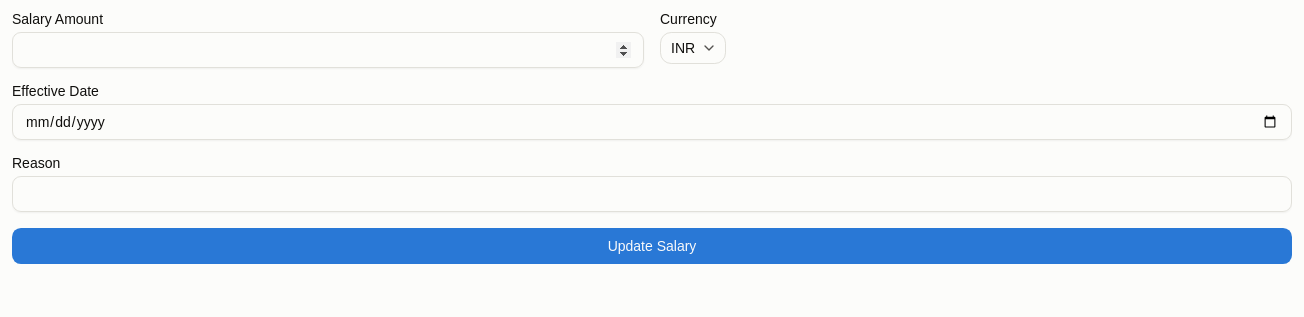
Scenario: UpdateSalaryForm › shows the backend's error message when the effectiveDate is backdated (400)
Type "2000000" into the number field labelled "Salary Amount".
click(328, 50); type("2000000")  # box [12,32,644,68]
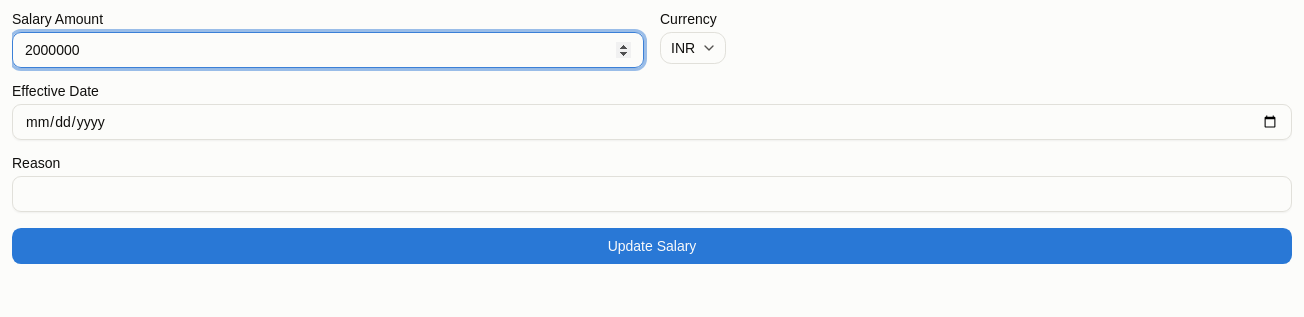
Type "2020-01-01" into the date field labelled "Effective Date".
click(652, 122); type("2020-01-01")  # box [12,104,1292,140]
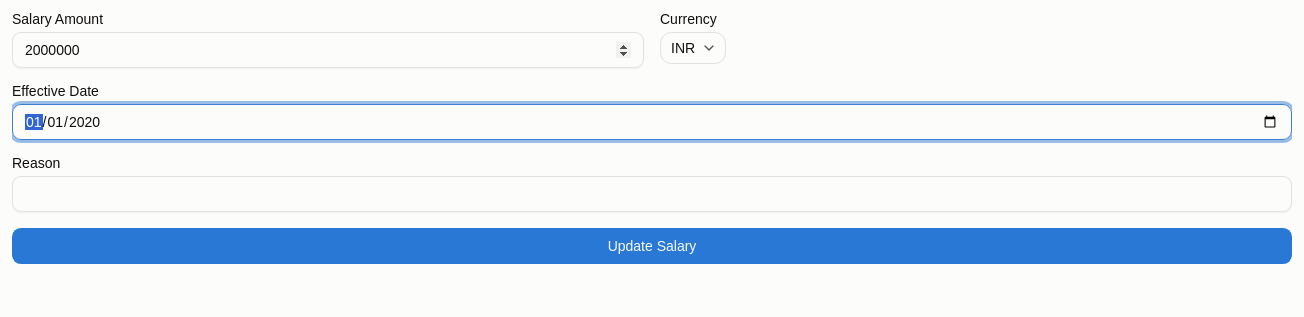
Type "Backdated raise" into the field labelled "Reason".
click(652, 194); type("Backdated raise")  # box [12,176,1292,212]
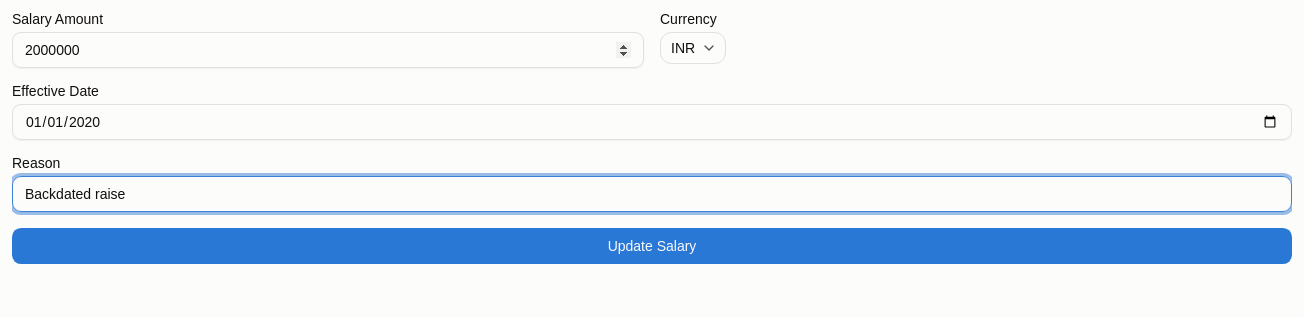
Click the button "Update Salary".
click(652, 246)  # box [12,228,1292,264]
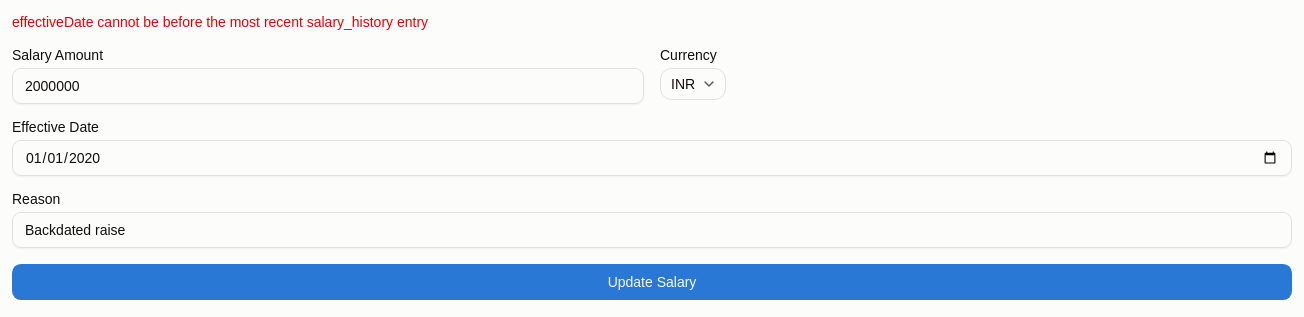
Expected: the text "cannot be before the most recent salary_history entry" is shown, [12,14,428,30]
